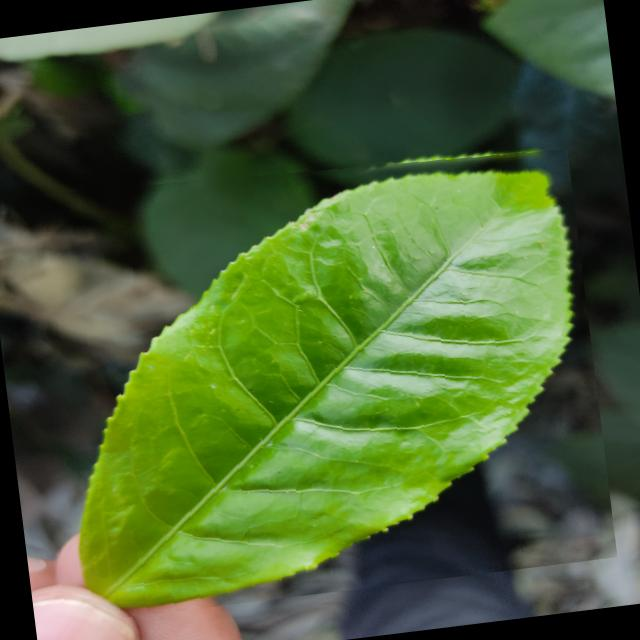Category B(2-4 days): (1, 127, 616, 625)
